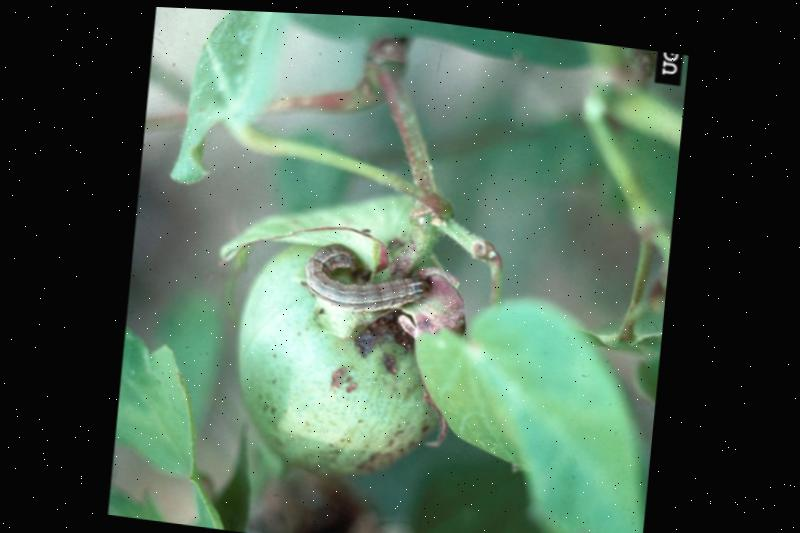fall-armyworm: (306, 239, 433, 308)
